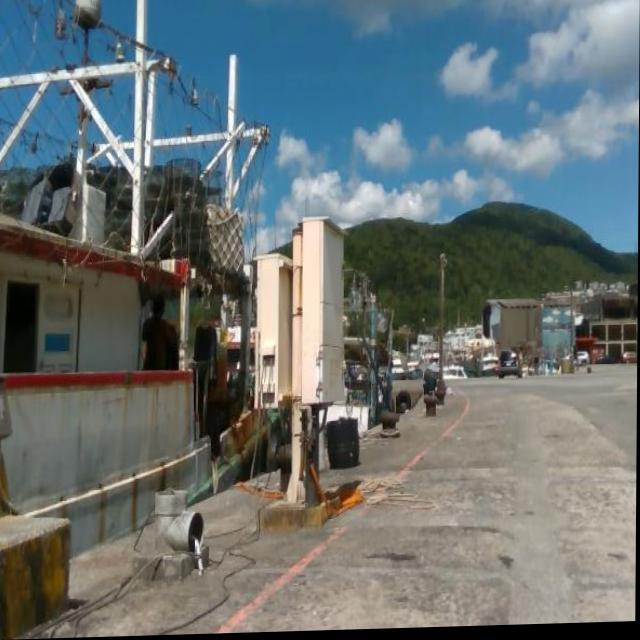pollute: (325, 416, 364, 474)
